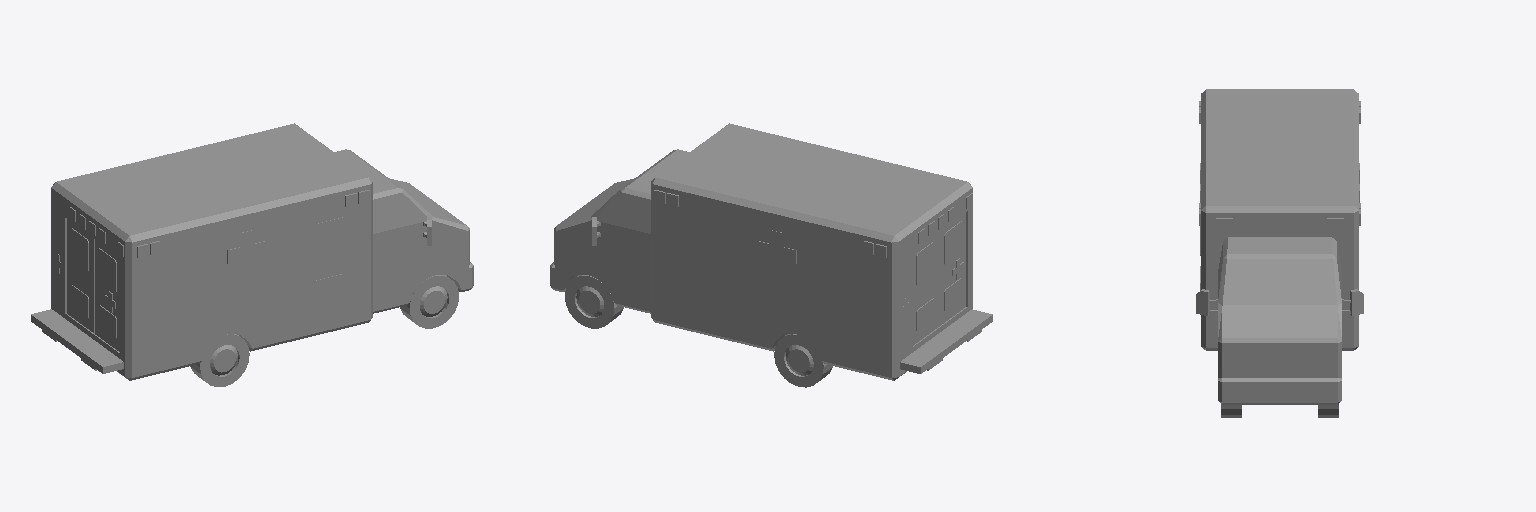
File: vehicle_ambulance.obj
3 renders of one model, left to right at view 1: azimuth 30°, elevation 25°; view 2: azimuth 150°, elevation 25°; view 3: azimuth 270°, elevation 25°, orthographic.
Visible parts, largest first — view 1: AMBULANCE_ambulance_polySurface4.002; view 2: AMBULANCE_ambulance_polySurface4.002; view 3: AMBULANCE_ambulance_polySurface4.002.
Part boxes in pixels (bbox=[...]): AMBULANCE_ambulance_polySurface4.002: bbox=[31, 123, 473, 386]; AMBULANCE_ambulance_polySurface4.002: bbox=[550, 123, 992, 387]; AMBULANCE_ambulance_polySurface4.002: bbox=[1196, 89, 1363, 417].
Size of the model in its own units: 529 by 233 by 204.